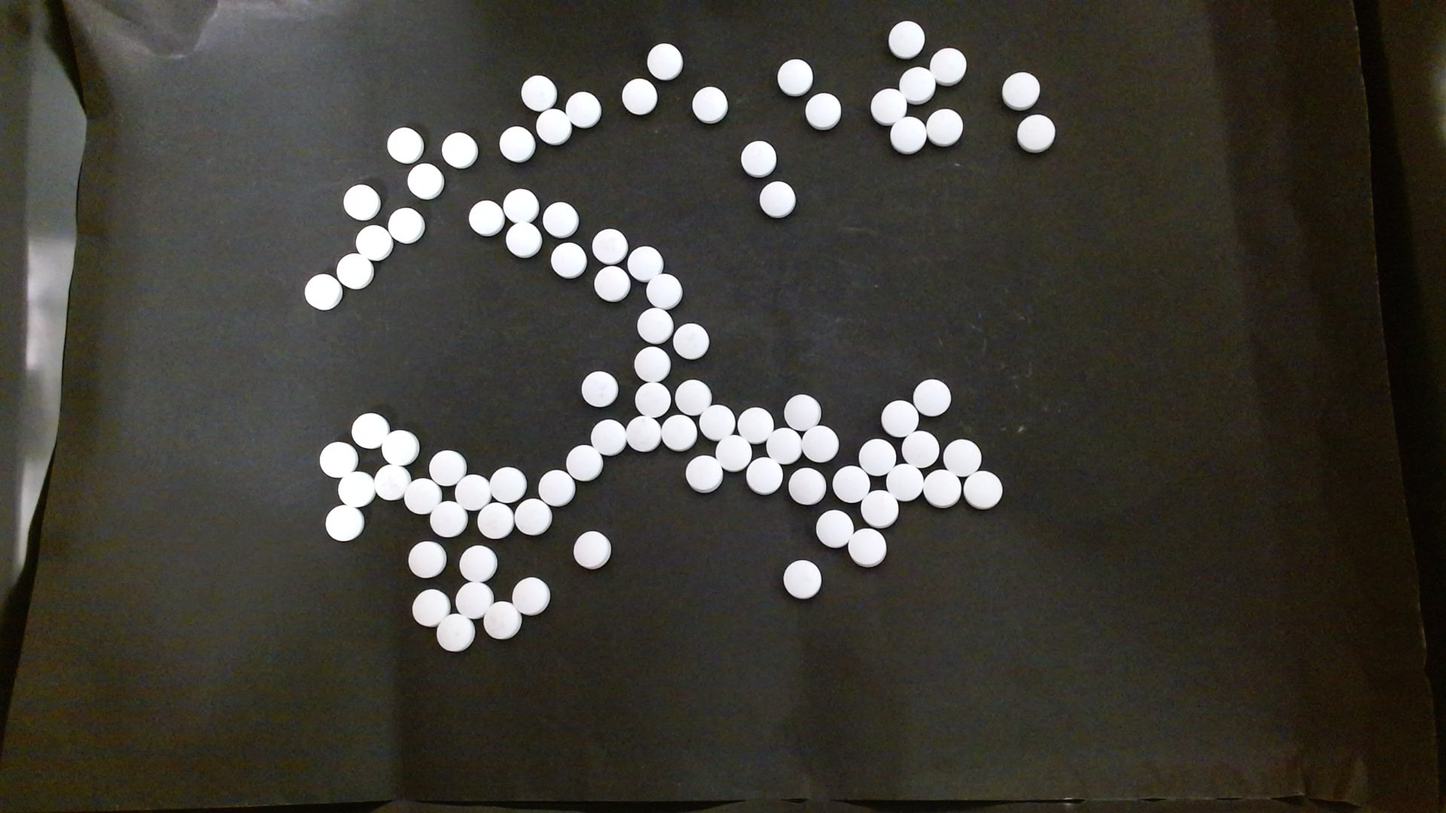Circle: (511, 576, 551, 616), (962, 470, 1002, 510), (407, 539, 447, 578), (815, 509, 854, 549), (410, 587, 450, 626), (572, 530, 612, 569), (783, 559, 822, 599), (912, 377, 951, 416), (1016, 114, 1055, 153), (435, 613, 474, 652), (325, 504, 365, 542), (848, 527, 886, 567), (513, 498, 551, 537), (476, 501, 514, 540), (880, 399, 918, 438), (831, 464, 869, 503), (350, 411, 389, 449), (943, 438, 981, 476), (858, 438, 896, 476), (538, 469, 576, 507), (429, 499, 467, 537), (458, 544, 496, 582), (455, 581, 493, 619), (861, 489, 898, 528), (889, 115, 926, 154), (550, 241, 587, 279), (337, 470, 375, 507), (336, 252, 374, 289), (784, 393, 821, 431), (319, 441, 357, 478), (453, 473, 491, 510), (488, 466, 526, 503), (715, 434, 752, 472), (789, 467, 826, 505), (929, 46, 966, 84), (776, 58, 813, 96), (483, 601, 520, 639), (1002, 72, 1039, 110), (888, 20, 925, 58), (388, 206, 425, 243), (355, 224, 392, 261), (407, 162, 444, 199), (381, 429, 418, 466), (404, 478, 441, 515), (429, 449, 466, 486), (343, 184, 380, 221), (685, 455, 722, 492), (923, 470, 960, 507), (581, 370, 618, 407), (691, 86, 728, 123), (386, 126, 423, 163), (304, 273, 341, 310), (699, 403, 735, 441), (746, 456, 782, 494), (566, 443, 602, 481), (673, 322, 709, 359), (636, 307, 673, 343), (801, 425, 837, 462), (468, 199, 504, 236), (594, 265, 630, 302), (901, 431, 938, 467), (737, 406, 773, 443), (441, 132, 477, 169), (635, 380, 671, 417), (926, 108, 962, 145), (899, 65, 935, 102), (590, 419, 626, 456), (675, 379, 711, 416), (870, 87, 906, 124), (886, 463, 922, 500), (740, 140, 776, 177), (759, 181, 795, 218), (542, 201, 578, 237), (591, 227, 627, 263), (374, 464, 410, 500), (634, 346, 670, 382), (804, 93, 840, 129), (520, 75, 556, 111), (661, 414, 696, 451), (646, 273, 682, 308), (505, 221, 540, 257), (499, 126, 534, 162), (621, 78, 656, 114), (647, 42, 682, 78), (536, 108, 570, 145), (627, 245, 663, 279), (504, 187, 538, 223), (626, 415, 660, 451), (766, 427, 800, 462), (566, 91, 599, 127)
